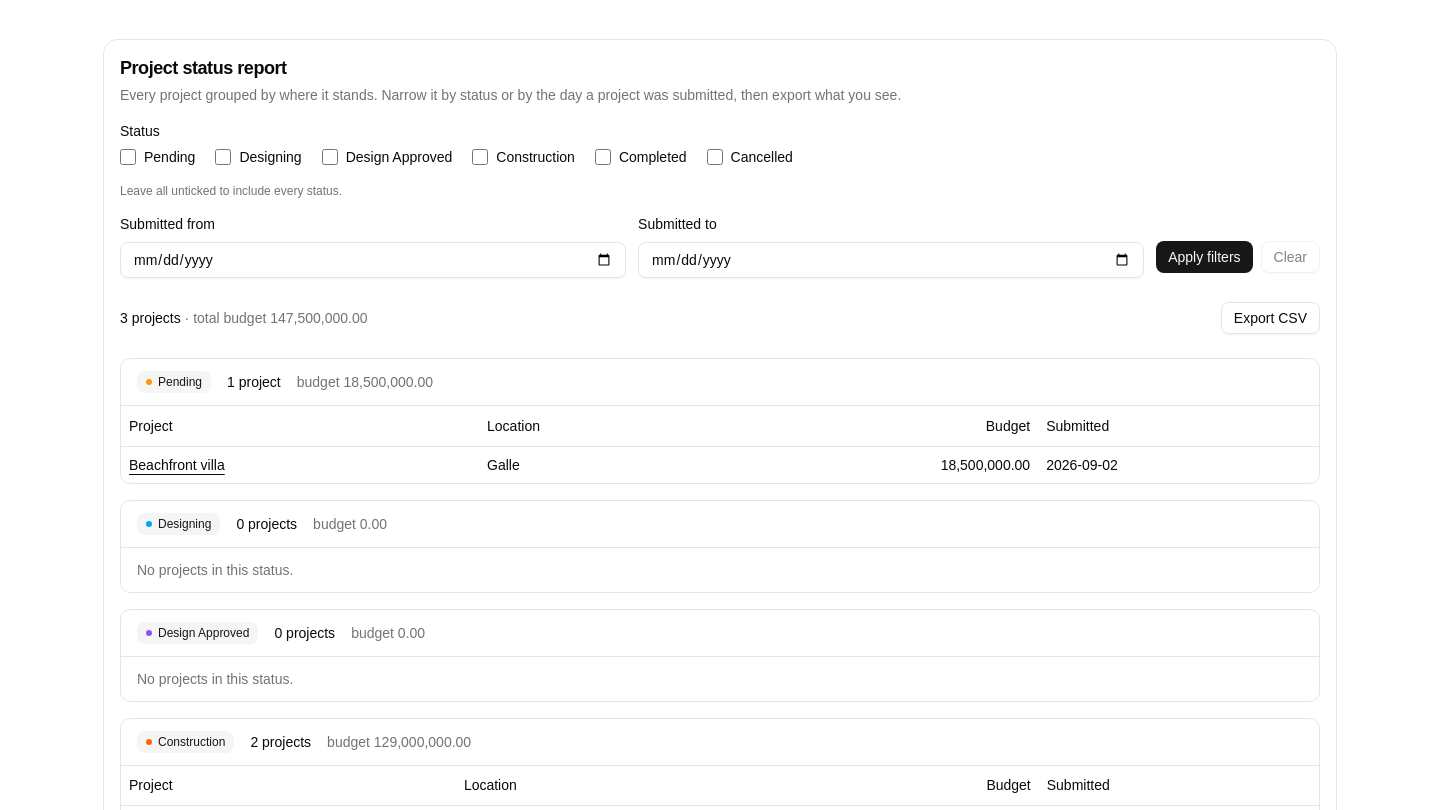
ProjectStatusReportPage — export (AC-2) › shows the service’s reason when the export is refused
Expected: the element with test id "group-Pending" is shown, [120, 358, 1320, 484]
Click the button "Export CSV" at (1270, 318), box [1221, 302, 1320, 334]
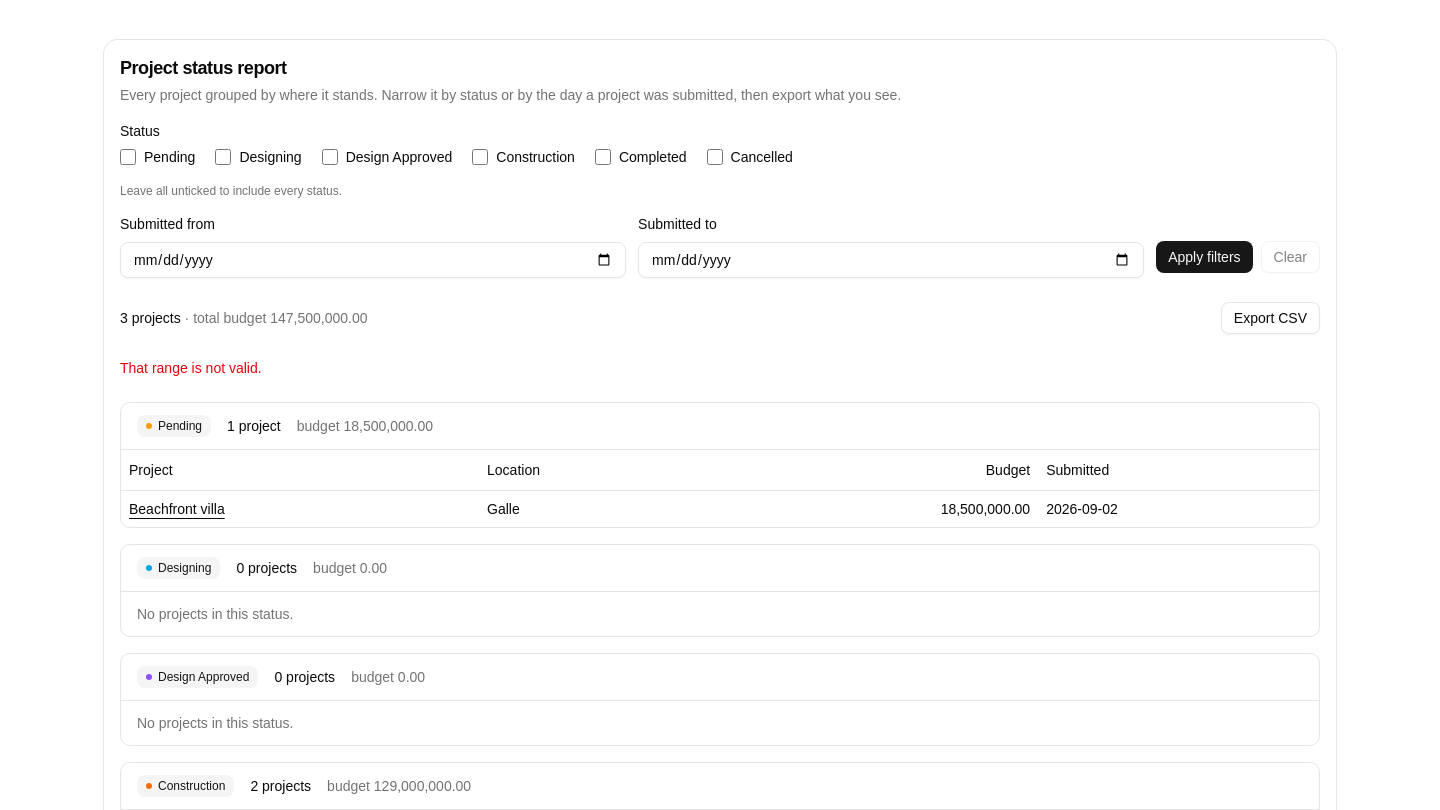
Result: the message reads "That range is not valid." at [120, 360, 262, 376]
